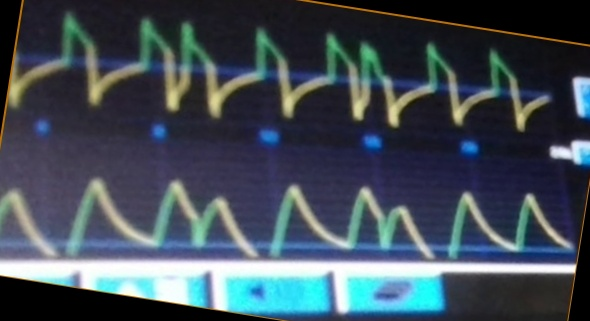Double_Triggering Flow: (24, 19, 527, 129)
Double_Triggering Volume: (5, 173, 550, 257)
